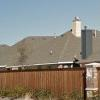Chimney: (67, 13, 84, 40)
